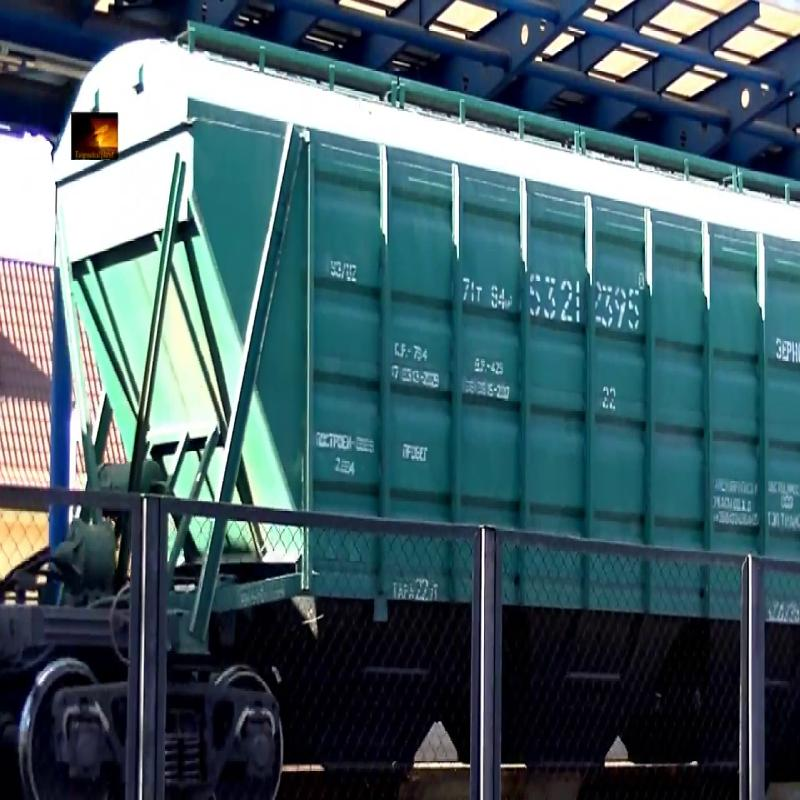train: (29, 6, 800, 725)
